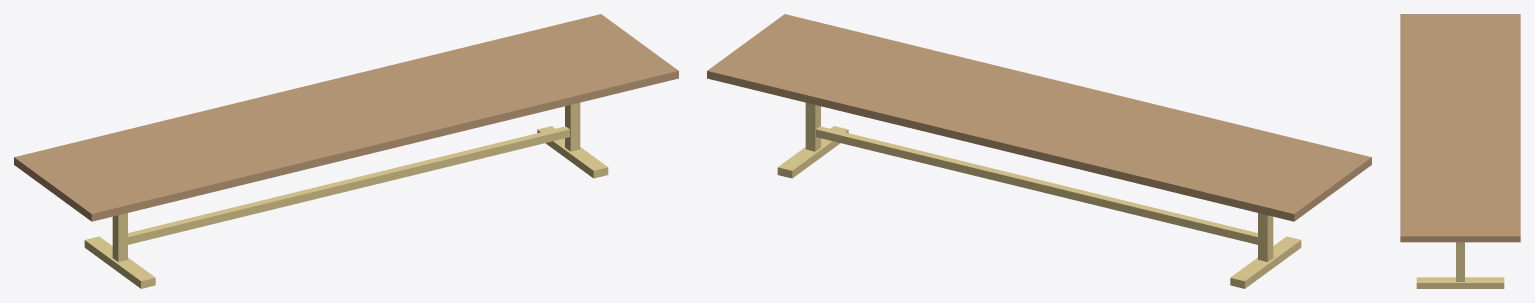
Rendered from bb_set_diningtable.fbx.
3 views of the same model, side by side, from view 1: azimuth 30°, elevation 25°; view 2: azimuth 150°, elevation 25°; view 3: azimuth 270°, elevation 25° (orthographic). The views are drawn at different scales.
Visible parts, largest first — view 1: bb_set_diningtable; view 2: bb_set_diningtable; view 3: bb_set_diningtable.
Part boxes in pixels (x1=…): bb_set_diningtable: x1=14, y1=14, x2=678, y2=288; bb_set_diningtable: x1=707, y1=14, x2=1371, y2=288; bb_set_diningtable: x1=1400, y1=14, x2=1520, y2=288.
Size of the model in its own units: 4.8 by 0.76 by 1.1.
